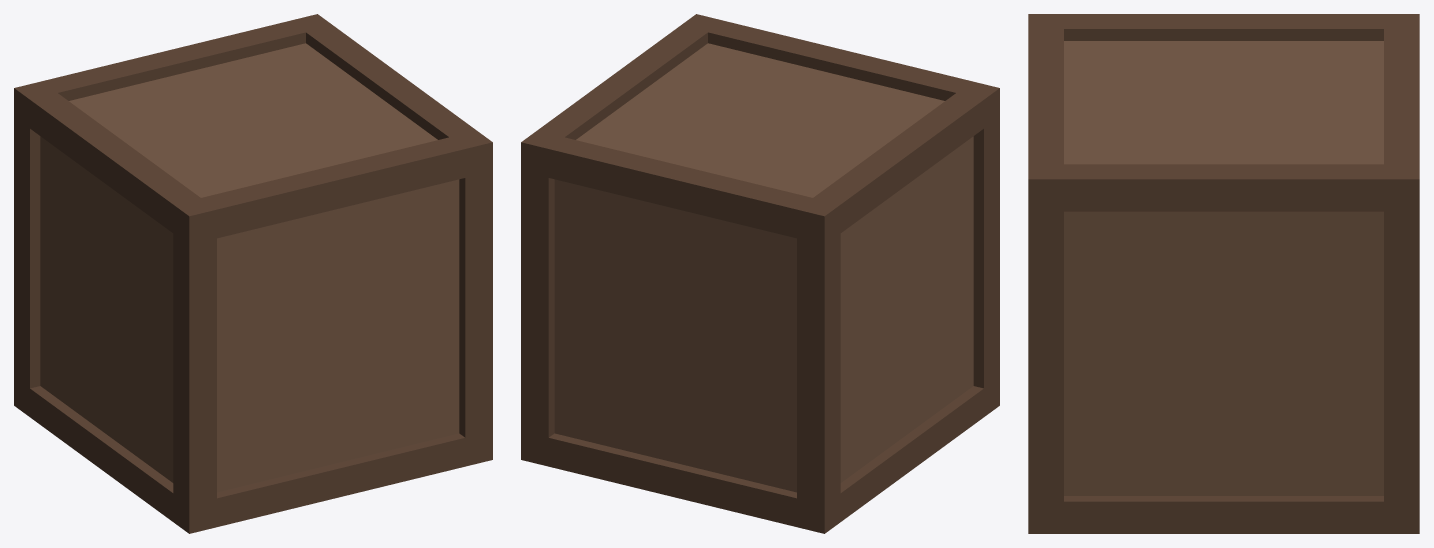
Rendered from SPW_Medieval_Box_02.glb.
The picture shows the model from 3 angles, left to right: view 1: azimuth 30°, elevation 25°; view 2: azimuth 150°, elevation 25°; view 3: azimuth 270°, elevation 25°; orthographic projection. The views are drawn at different scales.
Parts seen in each view (by area): view 1: SPW_Medieval_Box_02; view 2: SPW_Medieval_Box_02; view 3: SPW_Medieval_Box_02.
Boxes of the visible parts, x1,y1,x2,y2 form: SPW_Medieval_Box_02: (14, 14, 492, 533); SPW_Medieval_Box_02: (521, 14, 999, 533); SPW_Medieval_Box_02: (1028, 14, 1419, 533).
Size of the model in its own units: 0.4125 by 0.4125 by 0.4125.
1 material, 1 textured.
